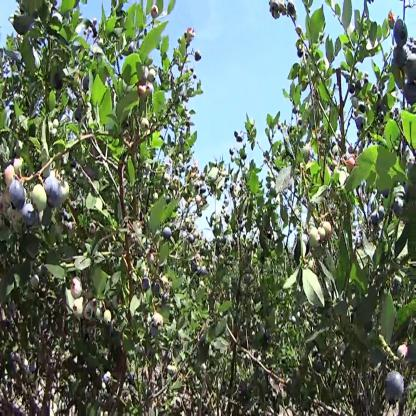intermediate: (5, 166, 14, 184), (139, 86, 149, 98), (348, 157, 354, 173)
mature: (385, 372, 408, 405), (44, 173, 61, 207), (11, 184, 26, 210), (25, 203, 35, 232), (405, 81, 415, 108)
young: (33, 183, 48, 212), (62, 177, 75, 205), (71, 276, 83, 300), (320, 222, 333, 241), (311, 232, 321, 250), (152, 6, 160, 18)
